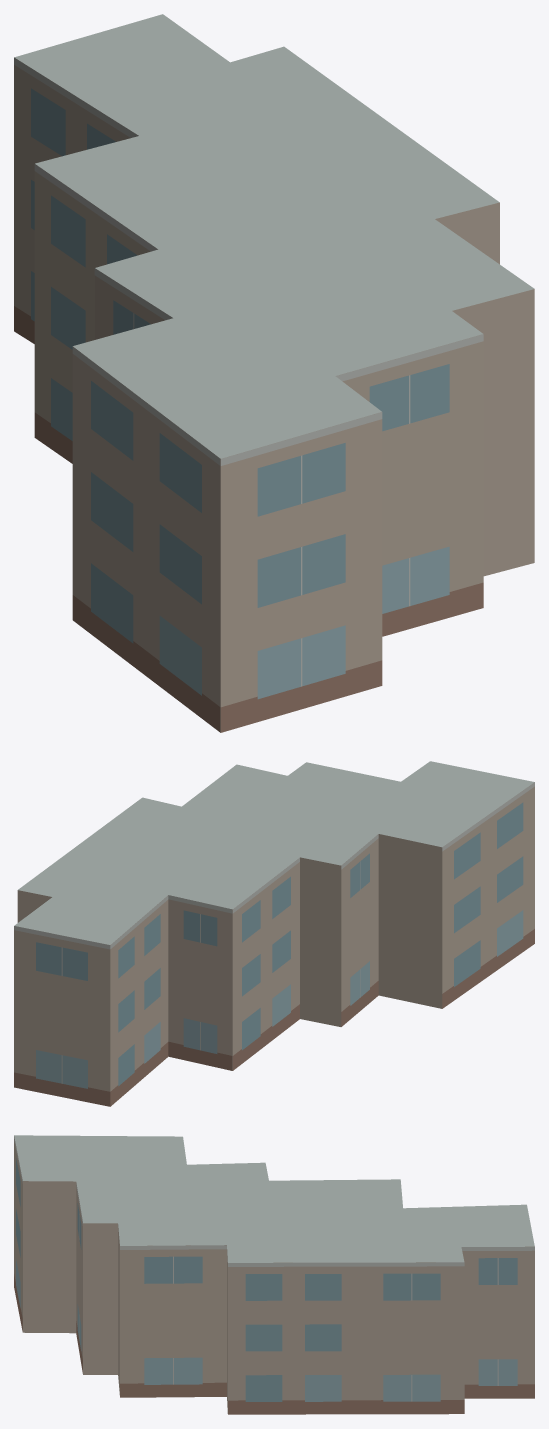
Rendered from survey-upis-33005292.glb.
3 views of the same model, one above another, from view 1: azimuth 30°, elevation 25°; view 2: azimuth 150°, elevation 25°; view 3: azimuth 270°, elevation 25° (orthographic). The views are drawn at different scales.
Parts seen in each view (by area): view 1: survey-upis-33005292.tmp; view 2: survey-upis-33005292.tmp; view 3: survey-upis-33005292.tmp.
Part boxes in pixels (<box>): survey-upis-33005292.tmp: <box>14,14,534,732</box>; survey-upis-33005292.tmp: <box>14,761,534,1106</box>; survey-upis-33005292.tmp: <box>14,1135,534,1414</box>.
Bounding box in the file's own units: 16.51 × 9.15 × 28.48.
